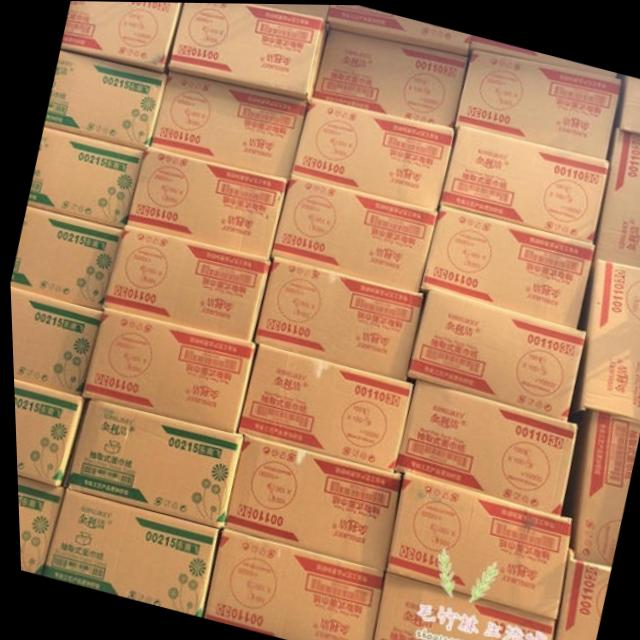box: (381, 474, 568, 618), (390, 375, 575, 514), (218, 433, 397, 571), (400, 288, 583, 419), (60, 396, 237, 530), (36, 487, 217, 613), (234, 342, 409, 469), (78, 309, 252, 433), (417, 204, 593, 326), (253, 255, 423, 379), (198, 529, 381, 640), (100, 224, 270, 342), (438, 125, 607, 243), (457, 45, 622, 163), (269, 173, 435, 290), (290, 97, 452, 209), (123, 149, 286, 257), (150, 68, 310, 177), (310, 28, 470, 129), (165, 2, 328, 101), (367, 571, 551, 640), (45, 47, 165, 150), (24, 127, 144, 228), (559, 406, 636, 563), (8, 207, 120, 310), (571, 255, 640, 420), (8, 286, 105, 396), (62, 1, 185, 73), (11, 379, 80, 489), (326, 4, 472, 55), (591, 125, 640, 266), (547, 551, 607, 640), (14, 476, 60, 573), (251, 3, 332, 21), (615, 73, 640, 131)
